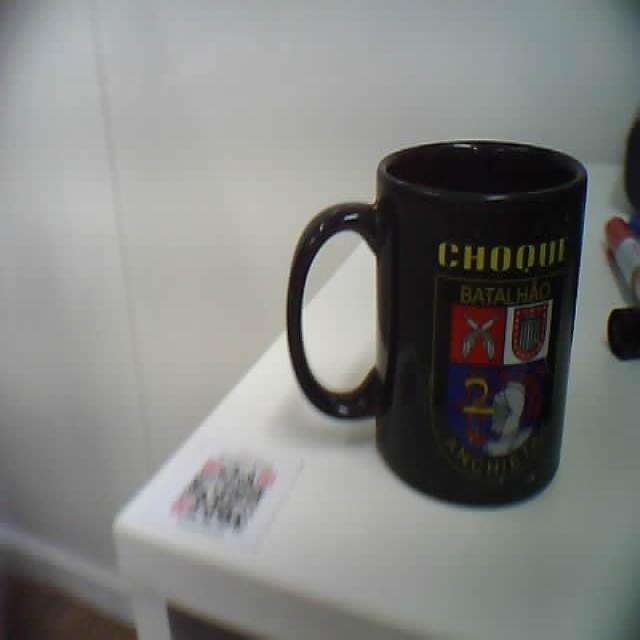caneca: (288, 141, 586, 505)
